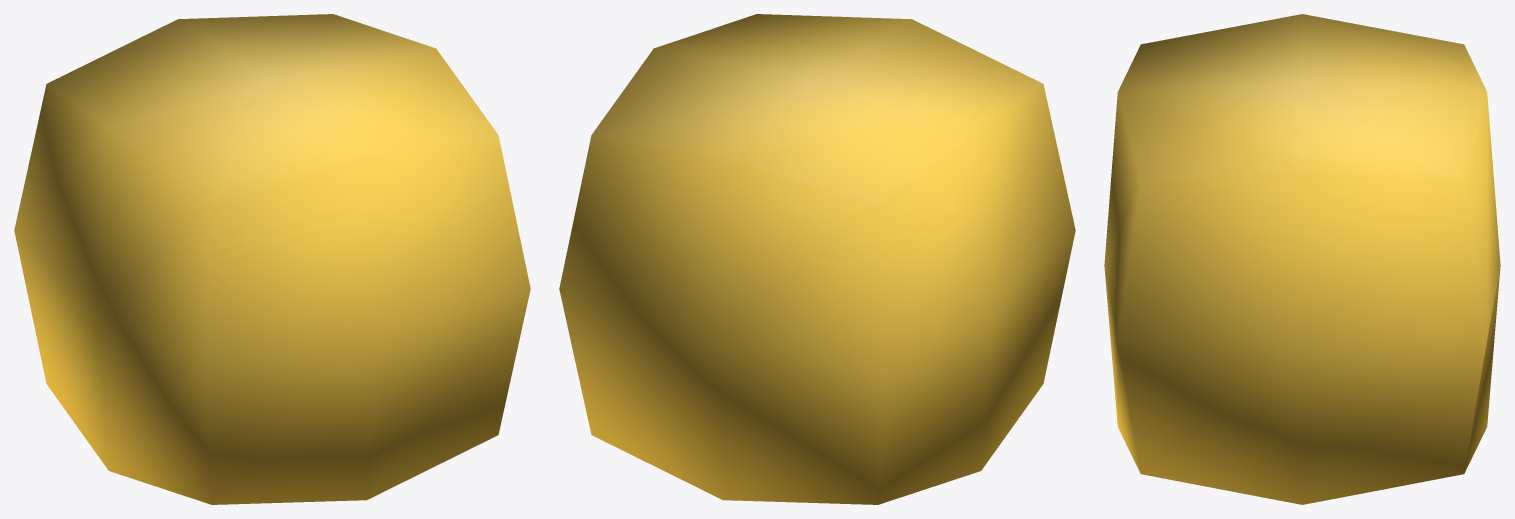
File: ball_small_yellow.fbx
3 renders of one model, left to right at view 1: azimuth 30°, elevation 25°; view 2: azimuth 150°, elevation 25°; view 3: azimuth 270°, elevation 25°, orthographic. The views are drawn at different scales.
Visible parts, largest first — view 1: ball_small_yellow; view 2: ball_small_yellow; view 3: ball_small_yellow.
Part boxes in pixels (<box>): ball_small_yellow: <box>14,14,530,504</box>; ball_small_yellow: <box>559,14,1075,504</box>; ball_small_yellow: <box>1104,14,1500,504</box>.
Bounding box in the file's own units: 24.5 × 23.26 × 24.5.
Materials: 1 (1 with a texture image).
